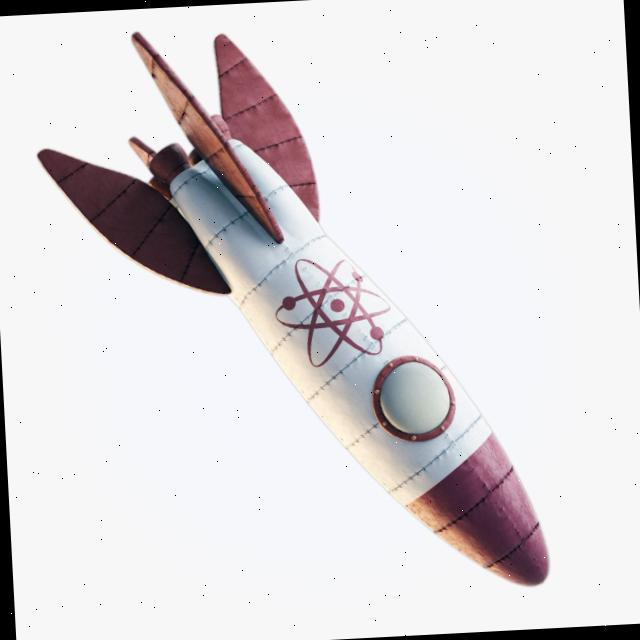rocket: (24, 23, 561, 601)
